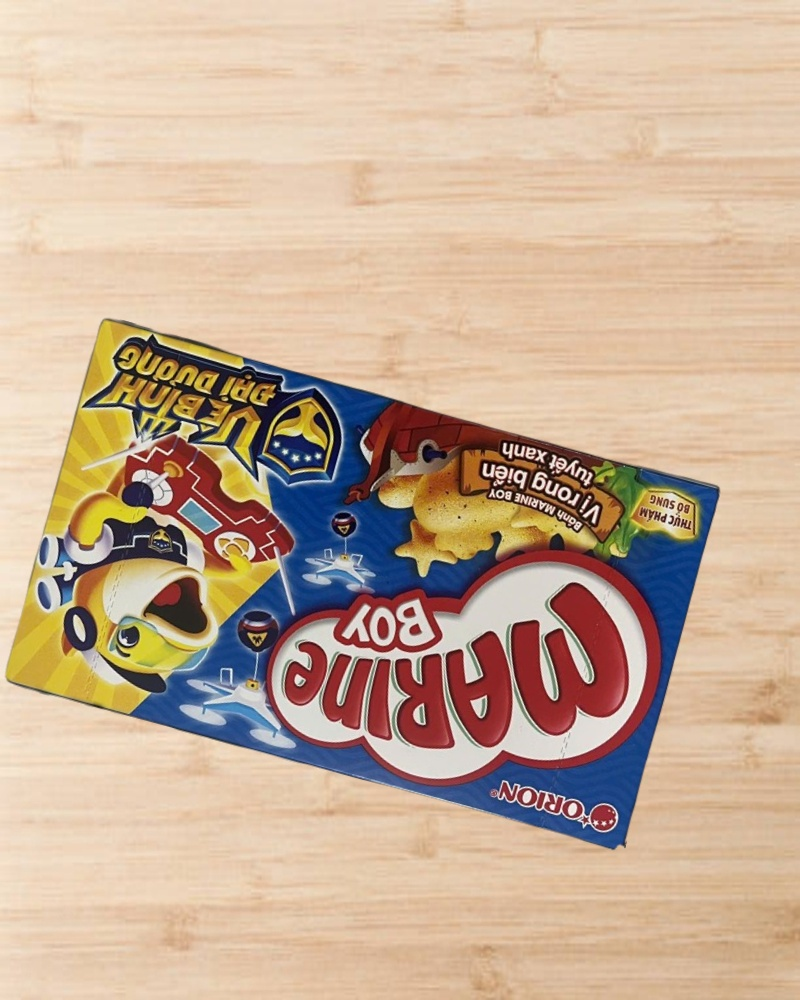Marine: (0, 317, 723, 853)
